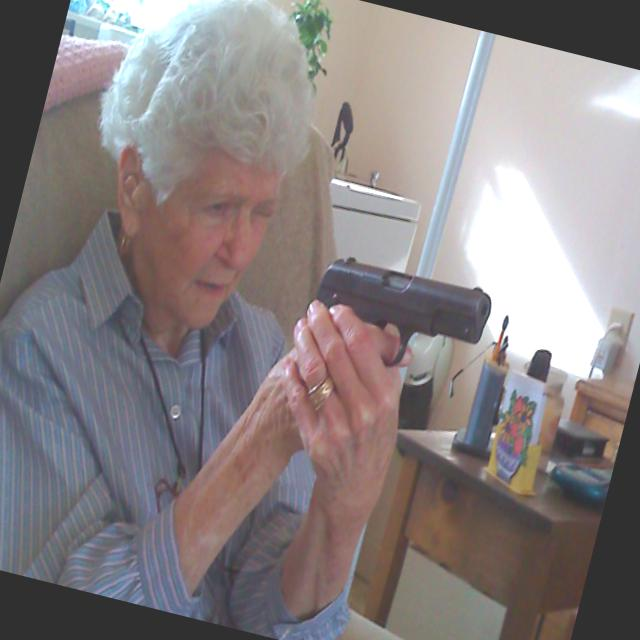handgun: (280, 243, 498, 427)
